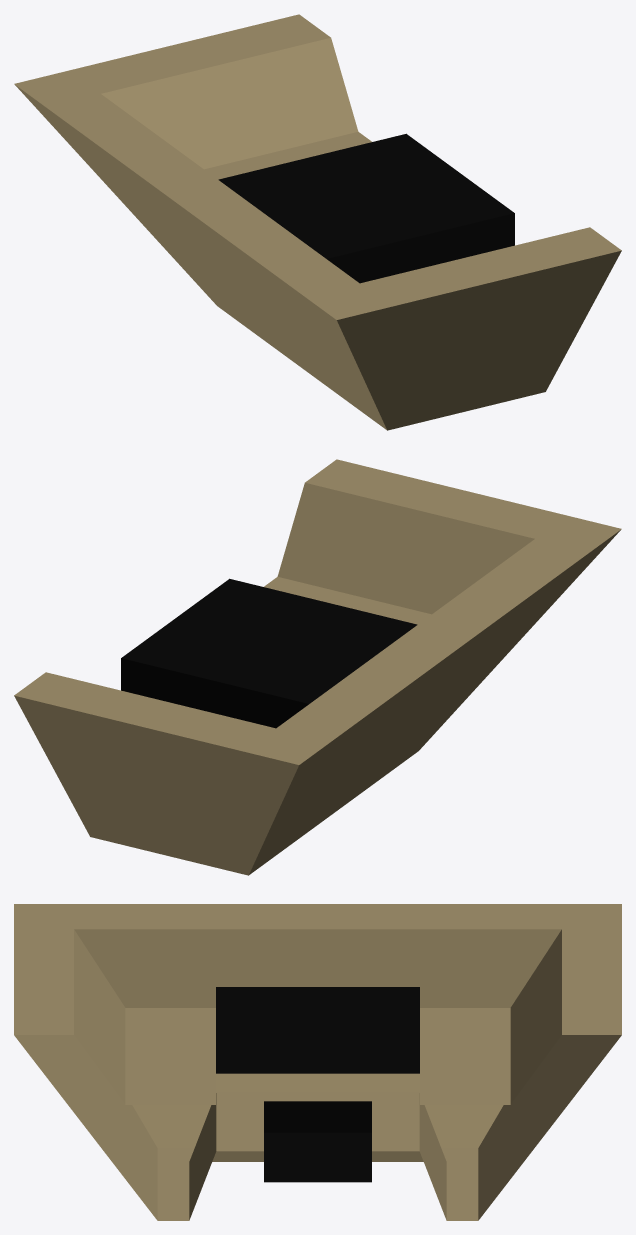
Rendered from Lamp.fbx.
3 renders of one model, top to bottom at view 1: azimuth 30°, elevation 25°; view 2: azimuth 150°, elevation 25°; view 3: azimuth 270°, elevation 25°, orthographic. The views are drawn at different scales.
Visible parts, largest first — view 1: pCube48; view 2: pCube48; view 3: pCube48.
Part boxes in pixels (box(x1,y1,x2,y2)): pCube48: box(14, 14, 621, 430); pCube48: box(14, 459, 621, 875); pCube48: box(14, 904, 621, 1220).
Bounding box in the file's own units: 19.43 × 12.84 × 38.07.
